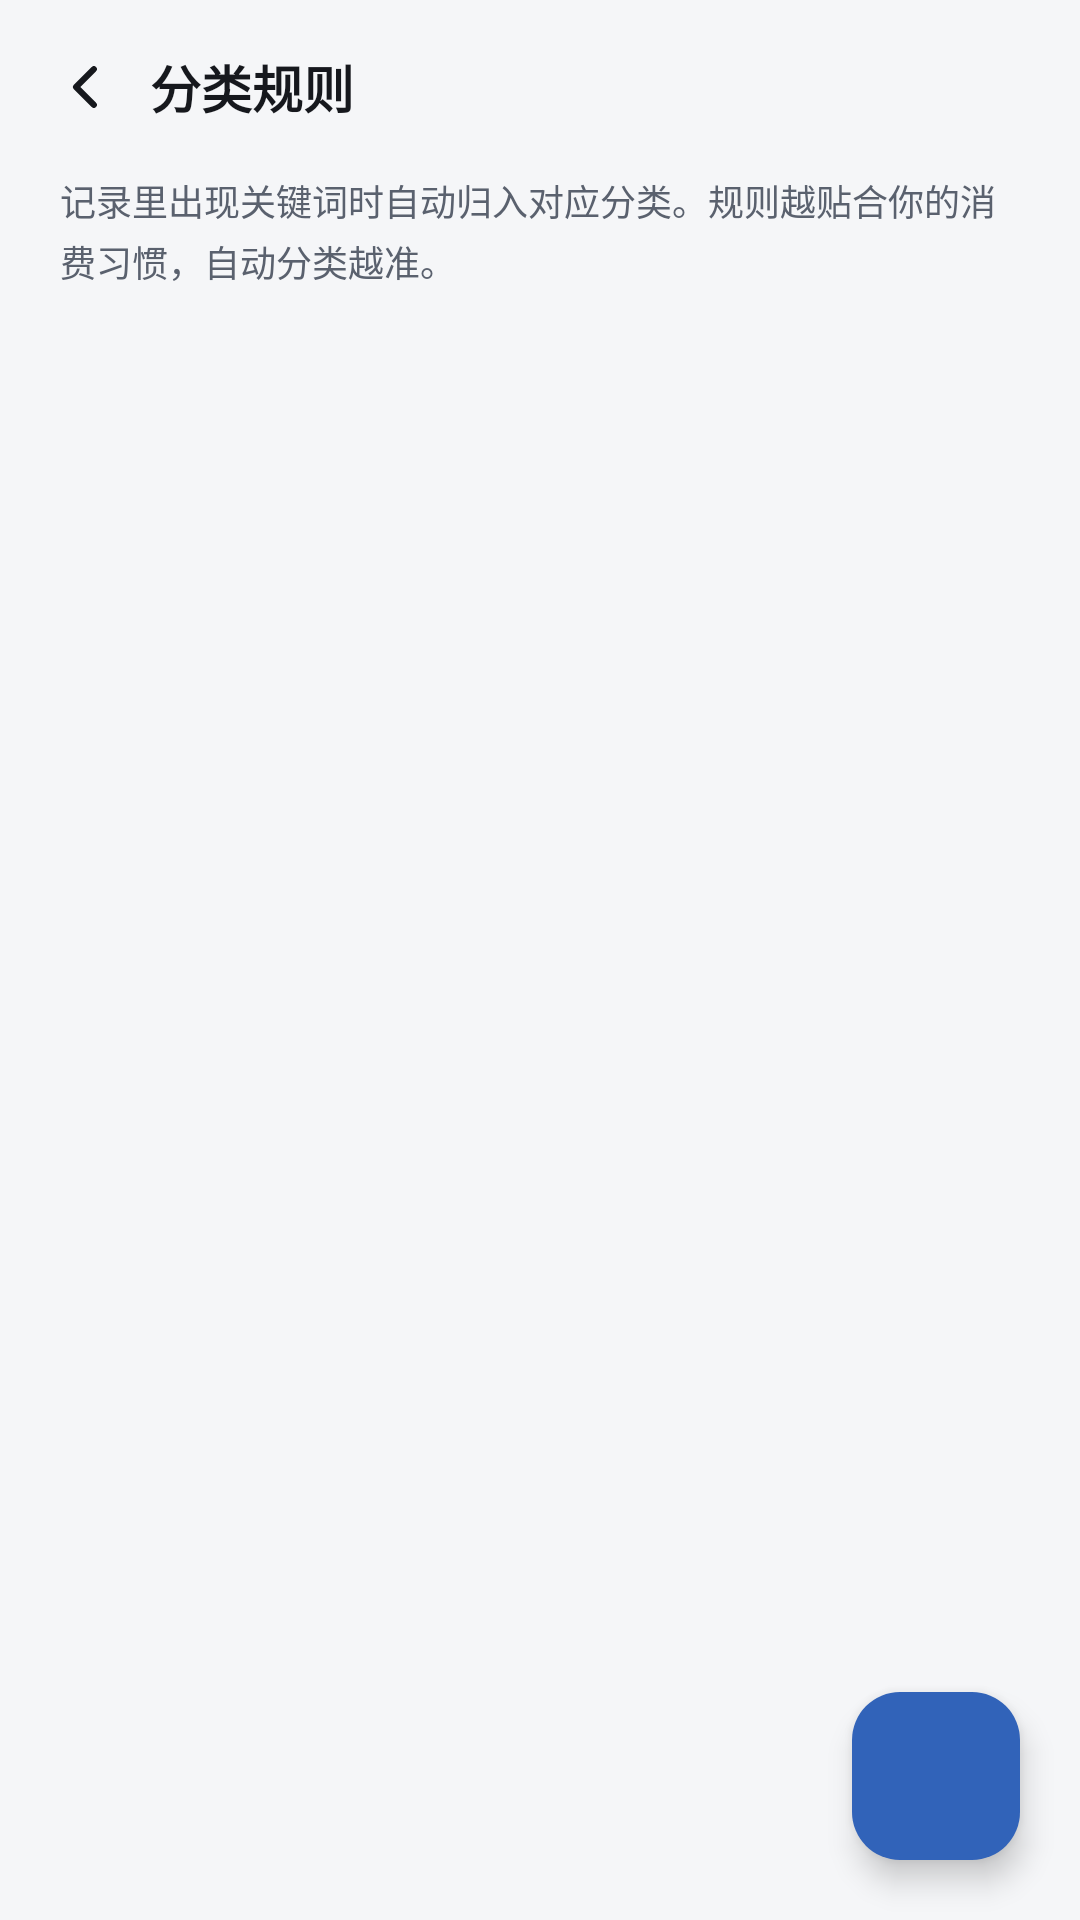

Named icons in this screenshot (1080 × 1920) and their bounding boxes, (x1, y1, x2, y2):
返回: (73, 66, 97, 108)
